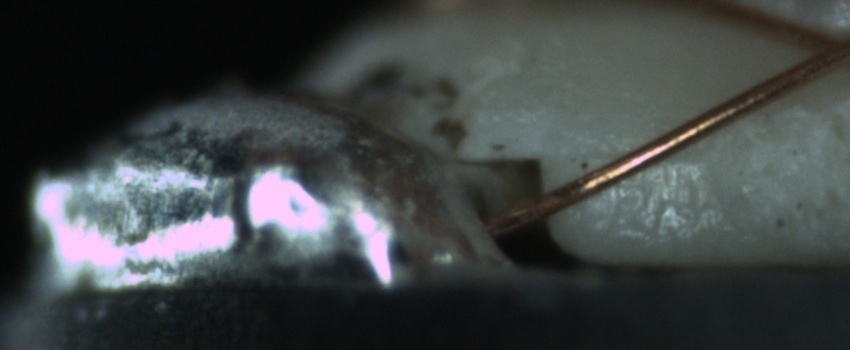CL: (797, 16, 850, 75)
DL: (572, 131, 700, 184)
